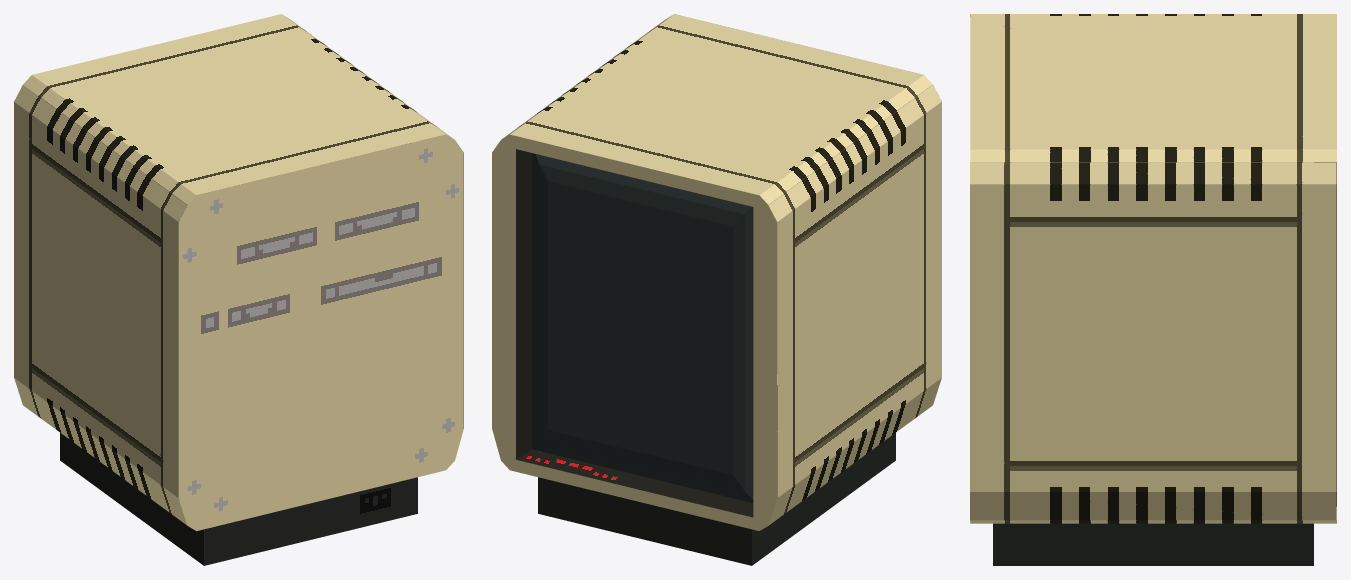
The model's file is monitor-v1.glb.
The picture shows the model from 3 angles, left to right: view 1: azimuth 30°, elevation 25°; view 2: azimuth 150°, elevation 25°; view 3: azimuth 270°, elevation 25°; orthographic projection. The views are drawn at different scales.
Visible parts, largest first — view 1: mesh; view 2: mesh; view 3: mesh.
Part boxes in pixels (left/top/right/bottom): mesh: left=14, top=14, right=463, bottom=565; mesh: left=492, top=14, right=941, bottom=565; mesh: left=970, top=14, right=1336, bottom=565.
Size of the model in its own units: 0.5 by 0.6406 by 0.5.
1 material, 1 textured.
